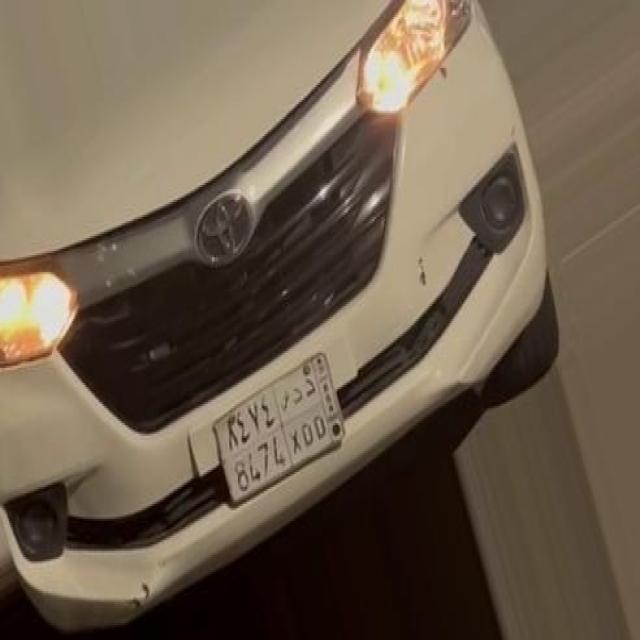Car-plate: (198, 321, 368, 526)
